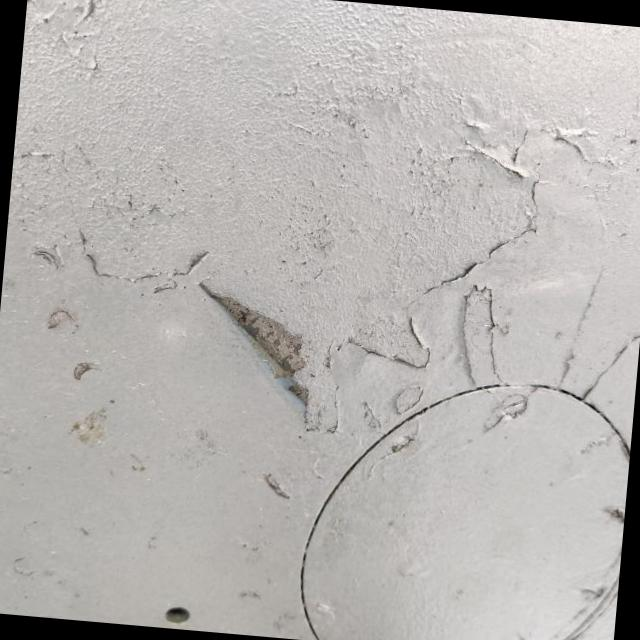Paint-off: (196, 256, 344, 431)
